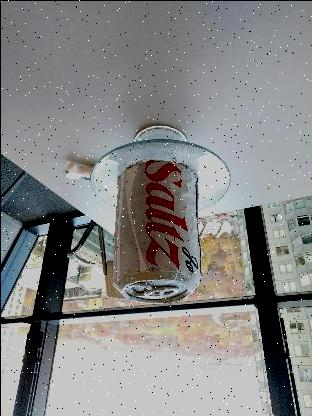Plastic Bottle: (109, 154, 201, 302)
